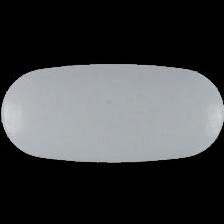0093-1060: (0, 0, 224, 224)
